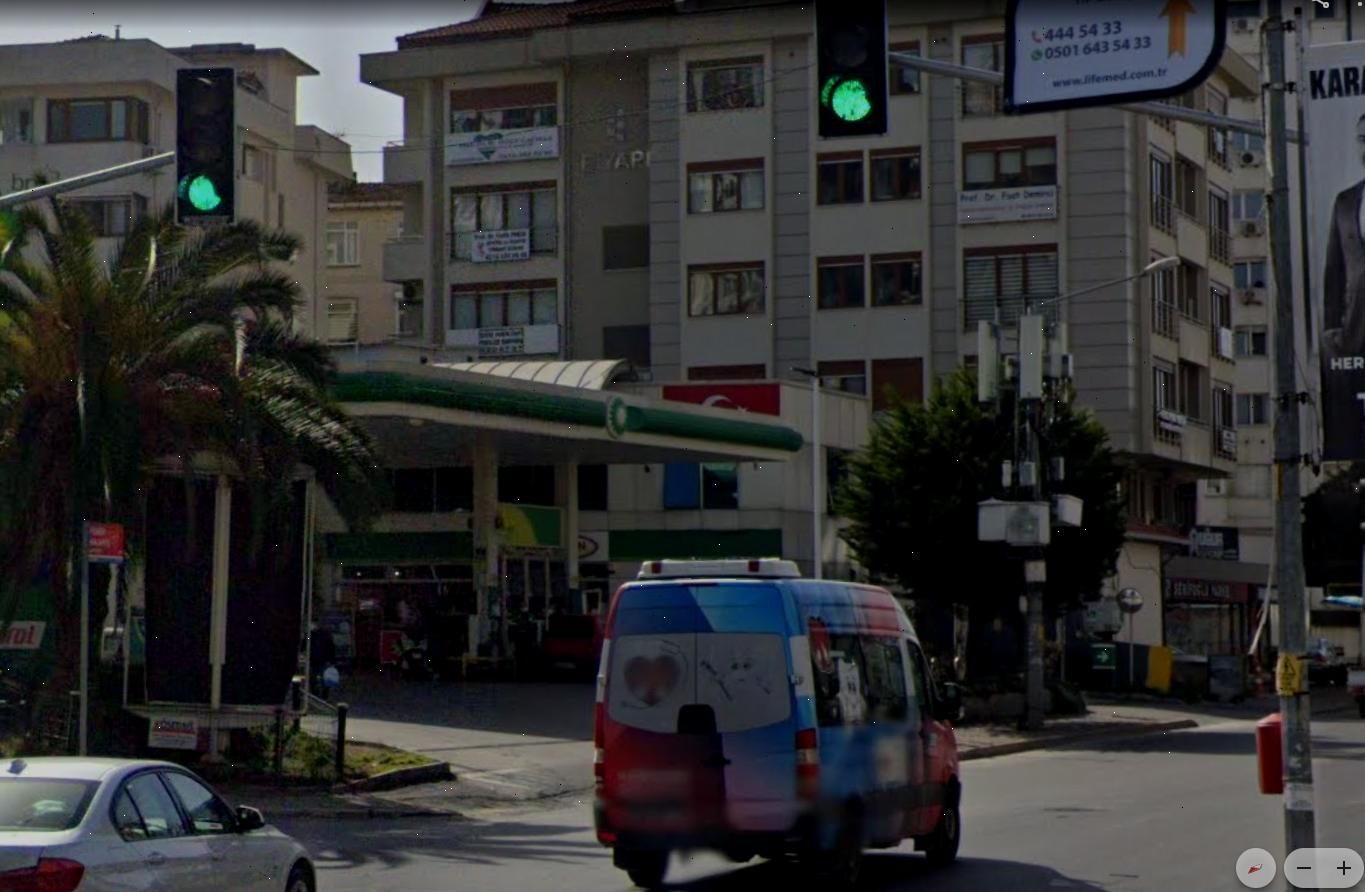greenlight: (179, 67, 235, 223), (820, 1, 880, 133)
